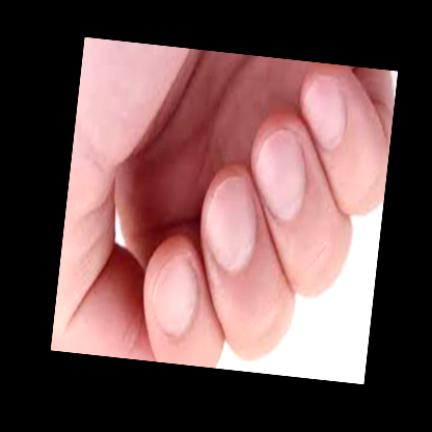Nail: (205, 176, 257, 271), (255, 130, 305, 219), (150, 255, 199, 336), (301, 75, 346, 149)
